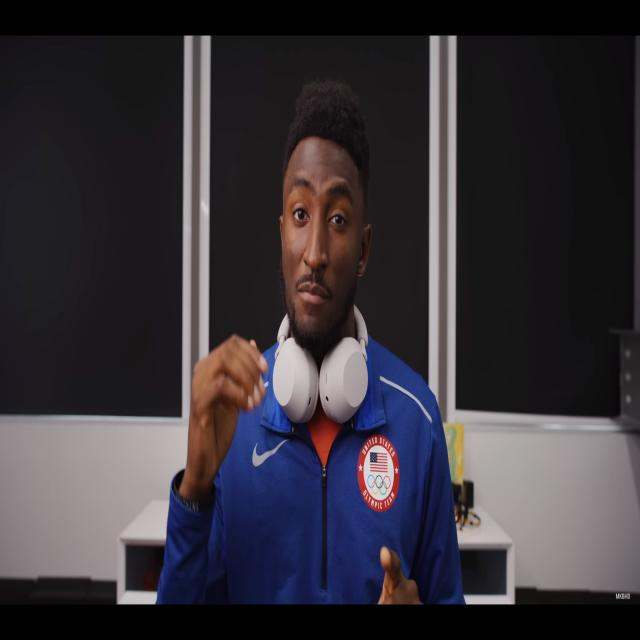Headphone: (271, 300, 370, 428)
